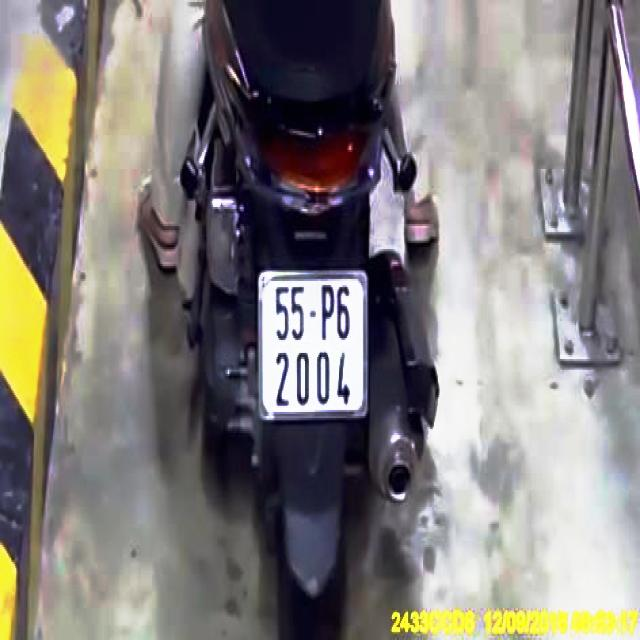license_plate: (260, 276, 368, 420)
